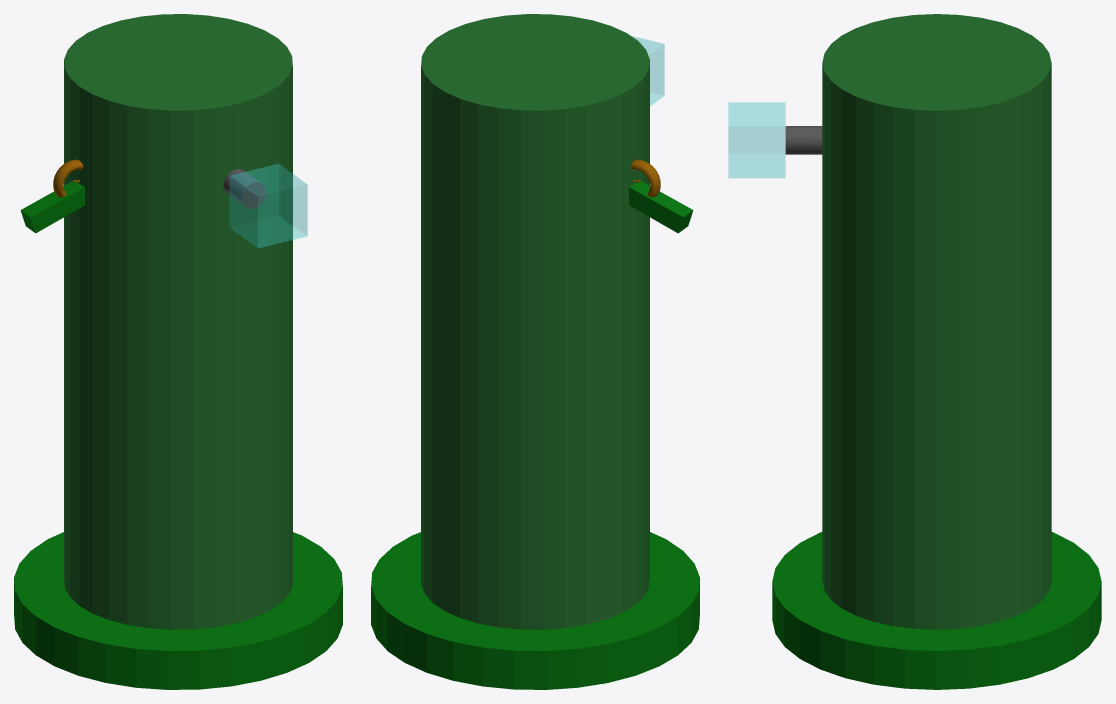
File: Cannon.fbx
The picture shows the model from 3 angles, left to right: view 1: azimuth 30°, elevation 25°; view 2: azimuth 150°, elevation 25°; view 3: azimuth 270°, elevation 25°; orthographic projection.
Visible parts, largest first — view 1: Cylinder, Cylinder.002; view 2: Cylinder, Cylinder.002; view 3: Cylinder, Cylinder.002.
Part boxes in pixels (x1,y1,x2,y2): Cylinder: [64, 14, 292, 629]; Cylinder.002: [14, 159, 342, 689]; Cylinder: [421, 14, 649, 629]; Cylinder.002: [371, 36, 699, 689]; Cylinder: [822, 14, 1051, 629]; Cylinder.002: [728, 102, 1101, 689].
Bounding box in the file's own units: 1192 × 2150 × 1303.
